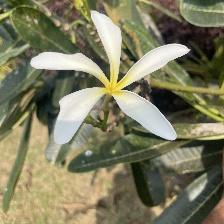champaka: (31, 11, 194, 149)
